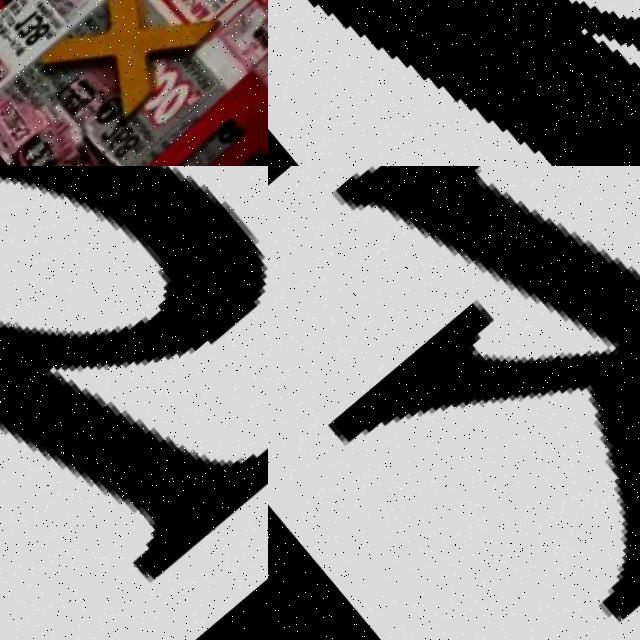A: (268, 0, 640, 166)
E: (135, 74, 268, 166)
K: (268, 166, 640, 640)
Q: (0, 166, 268, 640)
X: (27, 0, 214, 142)
